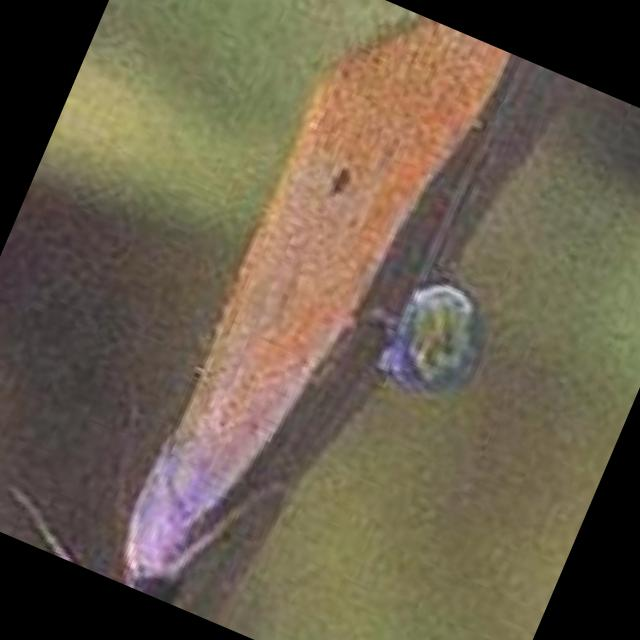stem-borer: (99, 0, 506, 640)
